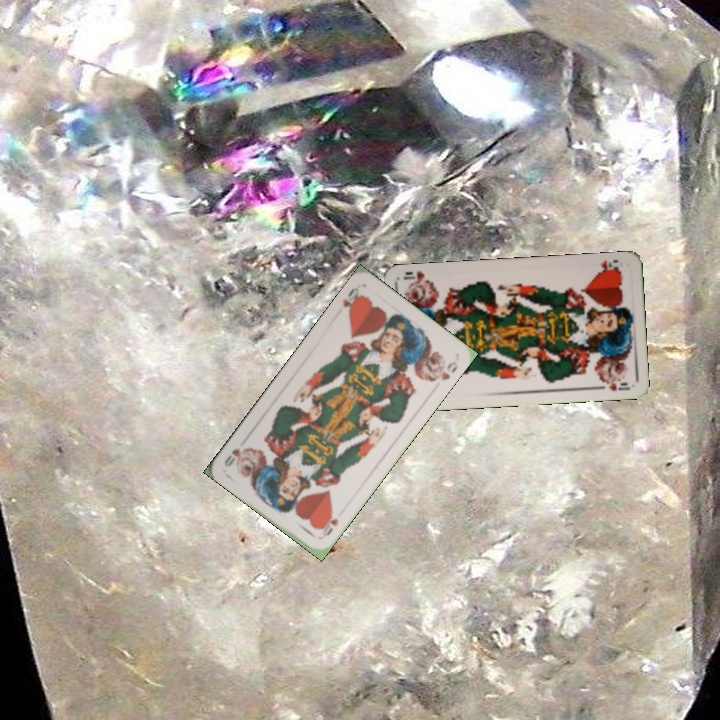HO: (338, 283, 365, 317), (316, 508, 341, 541), (594, 256, 624, 275)
